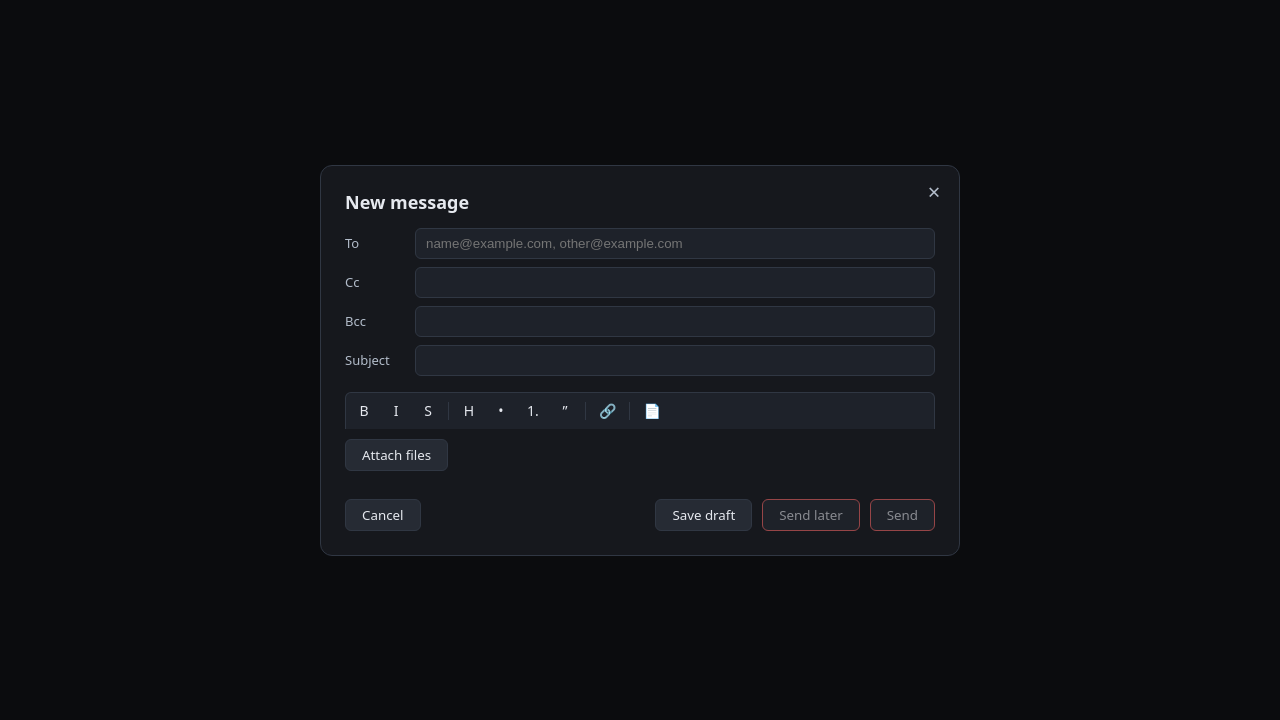
it: ComposeModal: discard guard › asks before a backdrop click discards an edited compose
Step 1. Type "bob@example.com" into the field with placeholder "name@example.com, other@example.com" → (675, 243), box [415,228,935,258]
Wait 500 ms
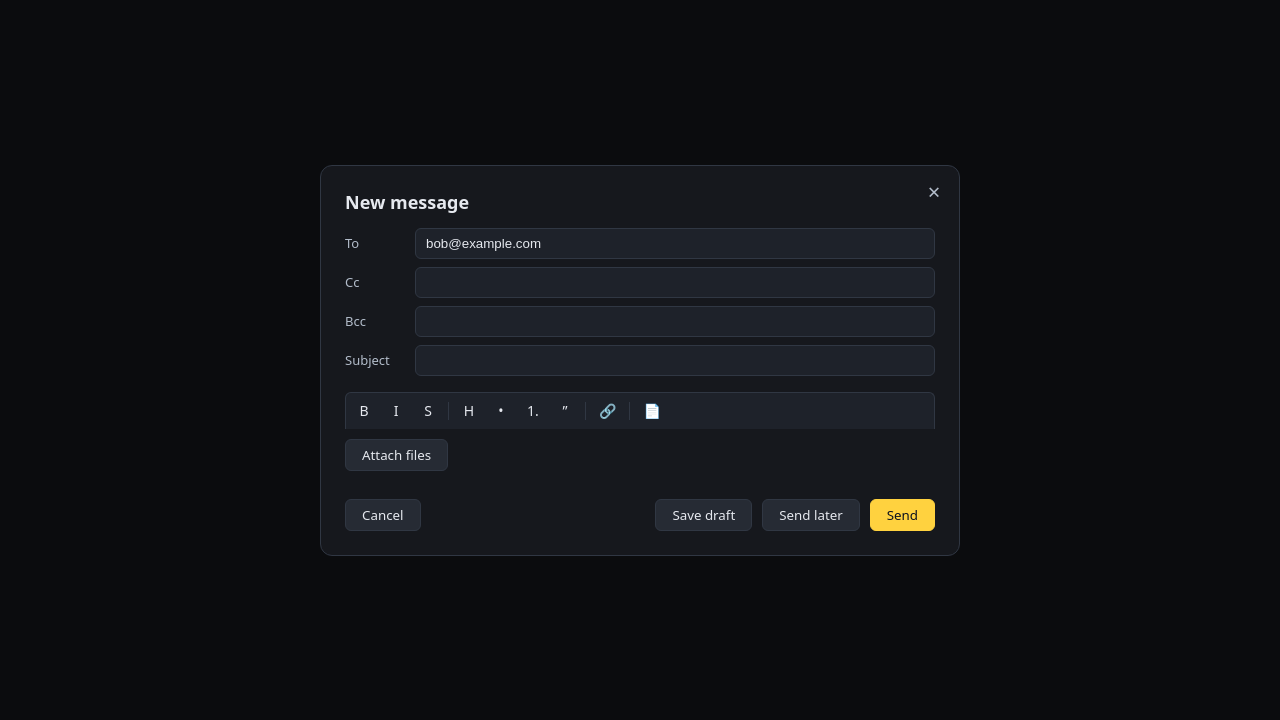
Step 2. Click the element with class "modal-backdrop" → (640, 360), box [0,0,1279,719]
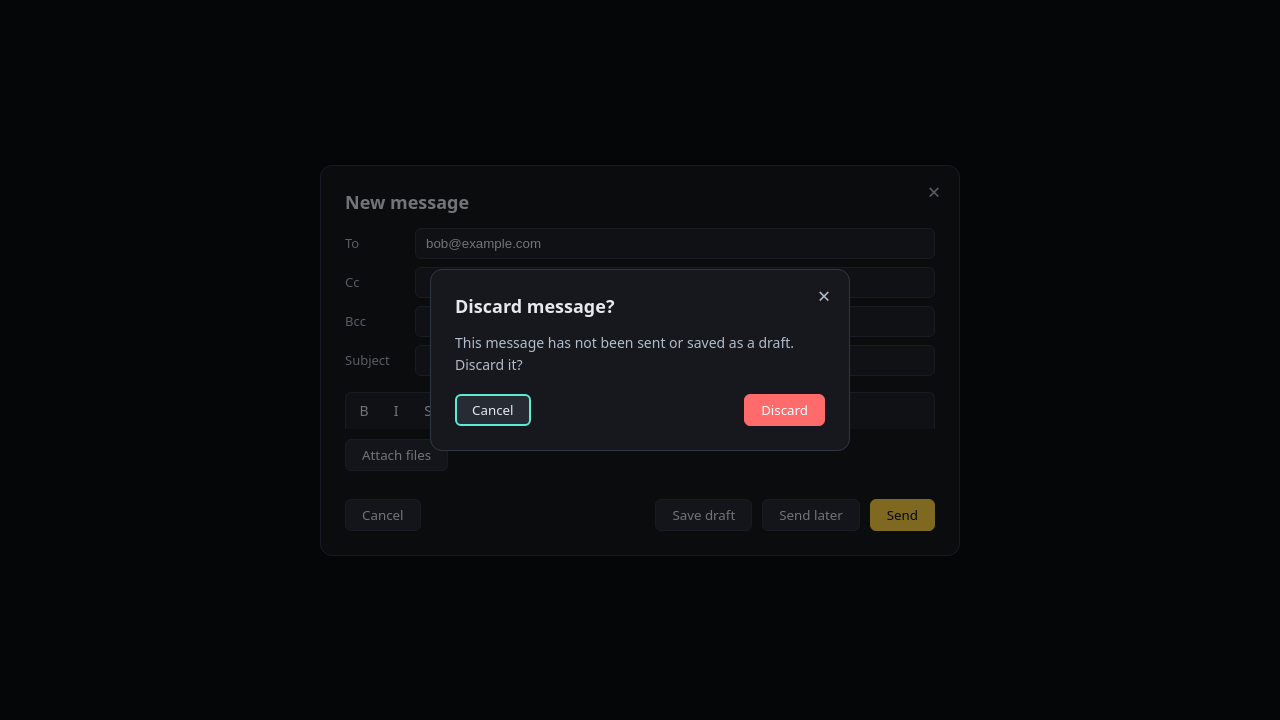
Expected: the dialog "Discard message?" is shown, [430,269,850,451]
